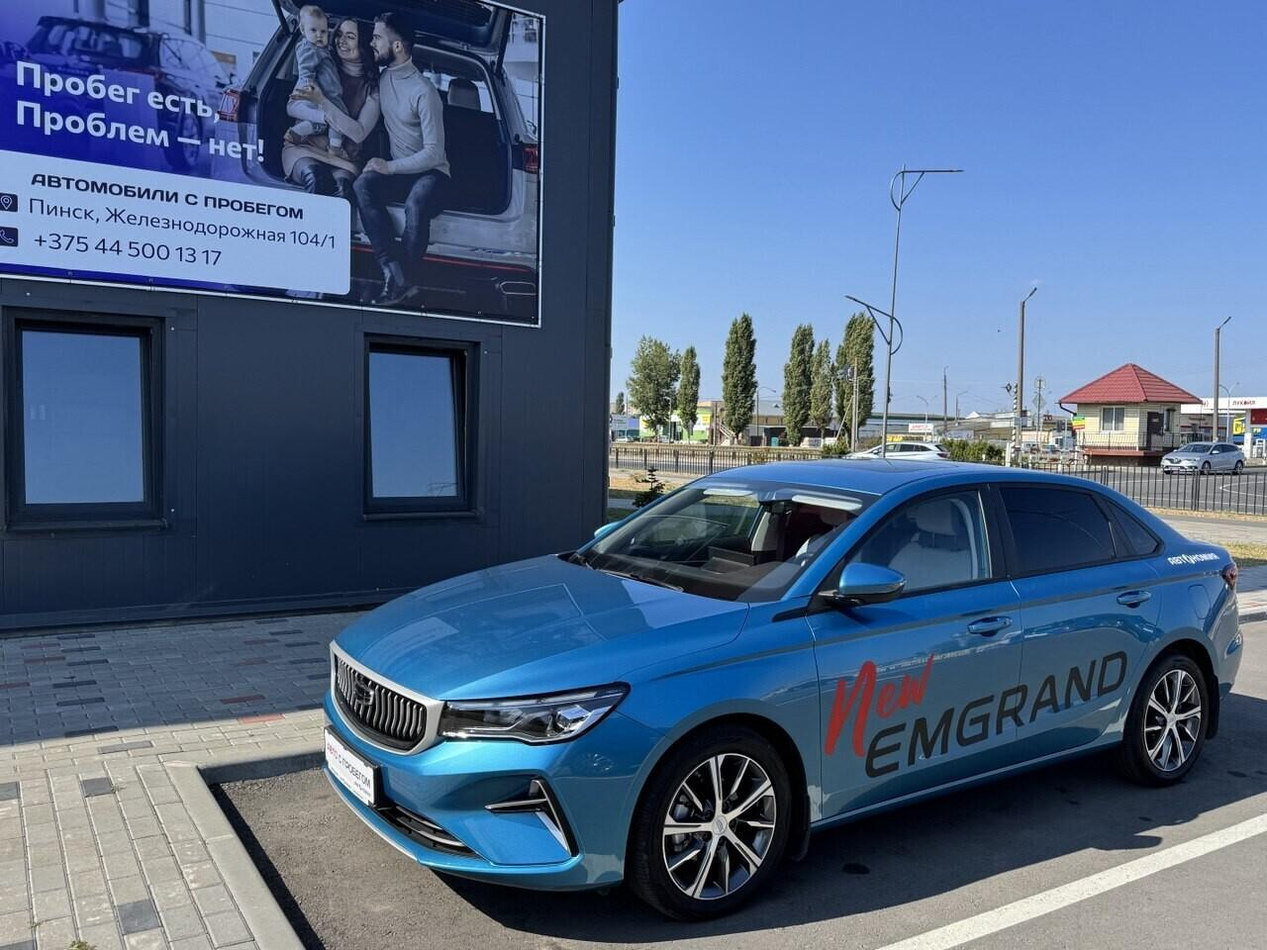Emgrand_2021: (312, 456, 1247, 917)
